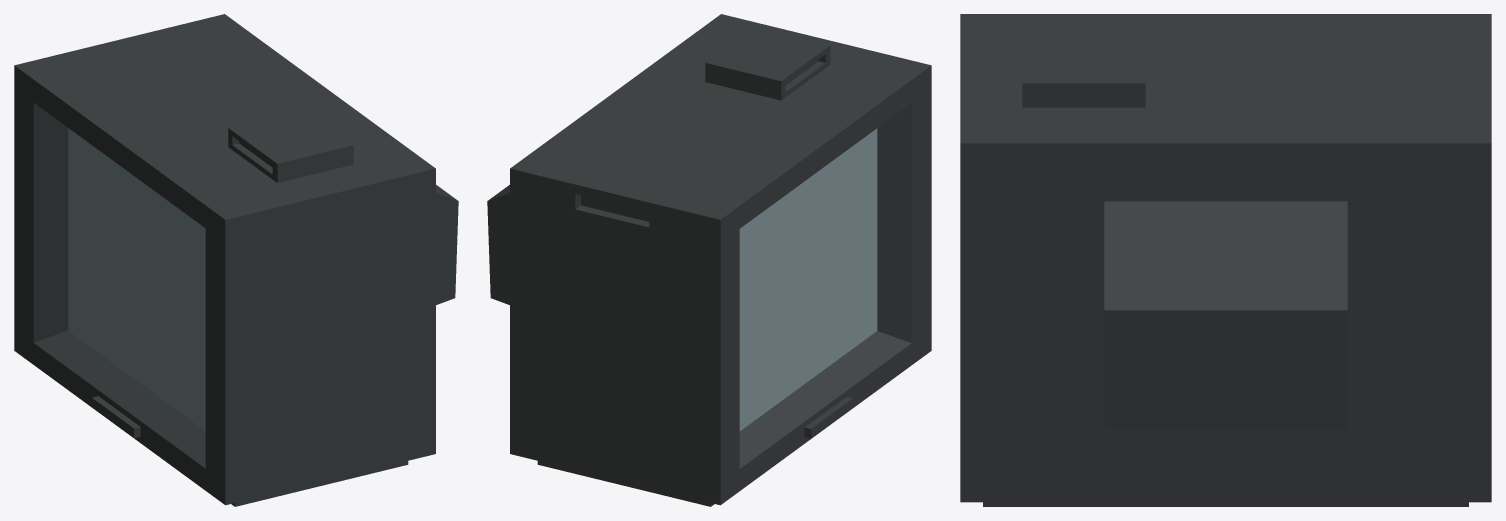
The model's file is tv_lowPoly.fbx.
The picture shows the model from 3 angles, left to right: view 1: azimuth 30°, elevation 25°; view 2: azimuth 150°, elevation 25°; view 3: azimuth 270°, elevation 25°; orthographic projection. The views are drawn at different scales.
Visible parts, largest first — view 1: TV; view 2: TV; view 3: TV.
Part boxes in pixels (x1,y1,x2,y2): TV: [14, 14, 458, 506]; TV: [487, 14, 931, 506]; TV: [960, 14, 1491, 506].
Bounding box in the file's own units: 5.85 × 5.98 × 7.2.
